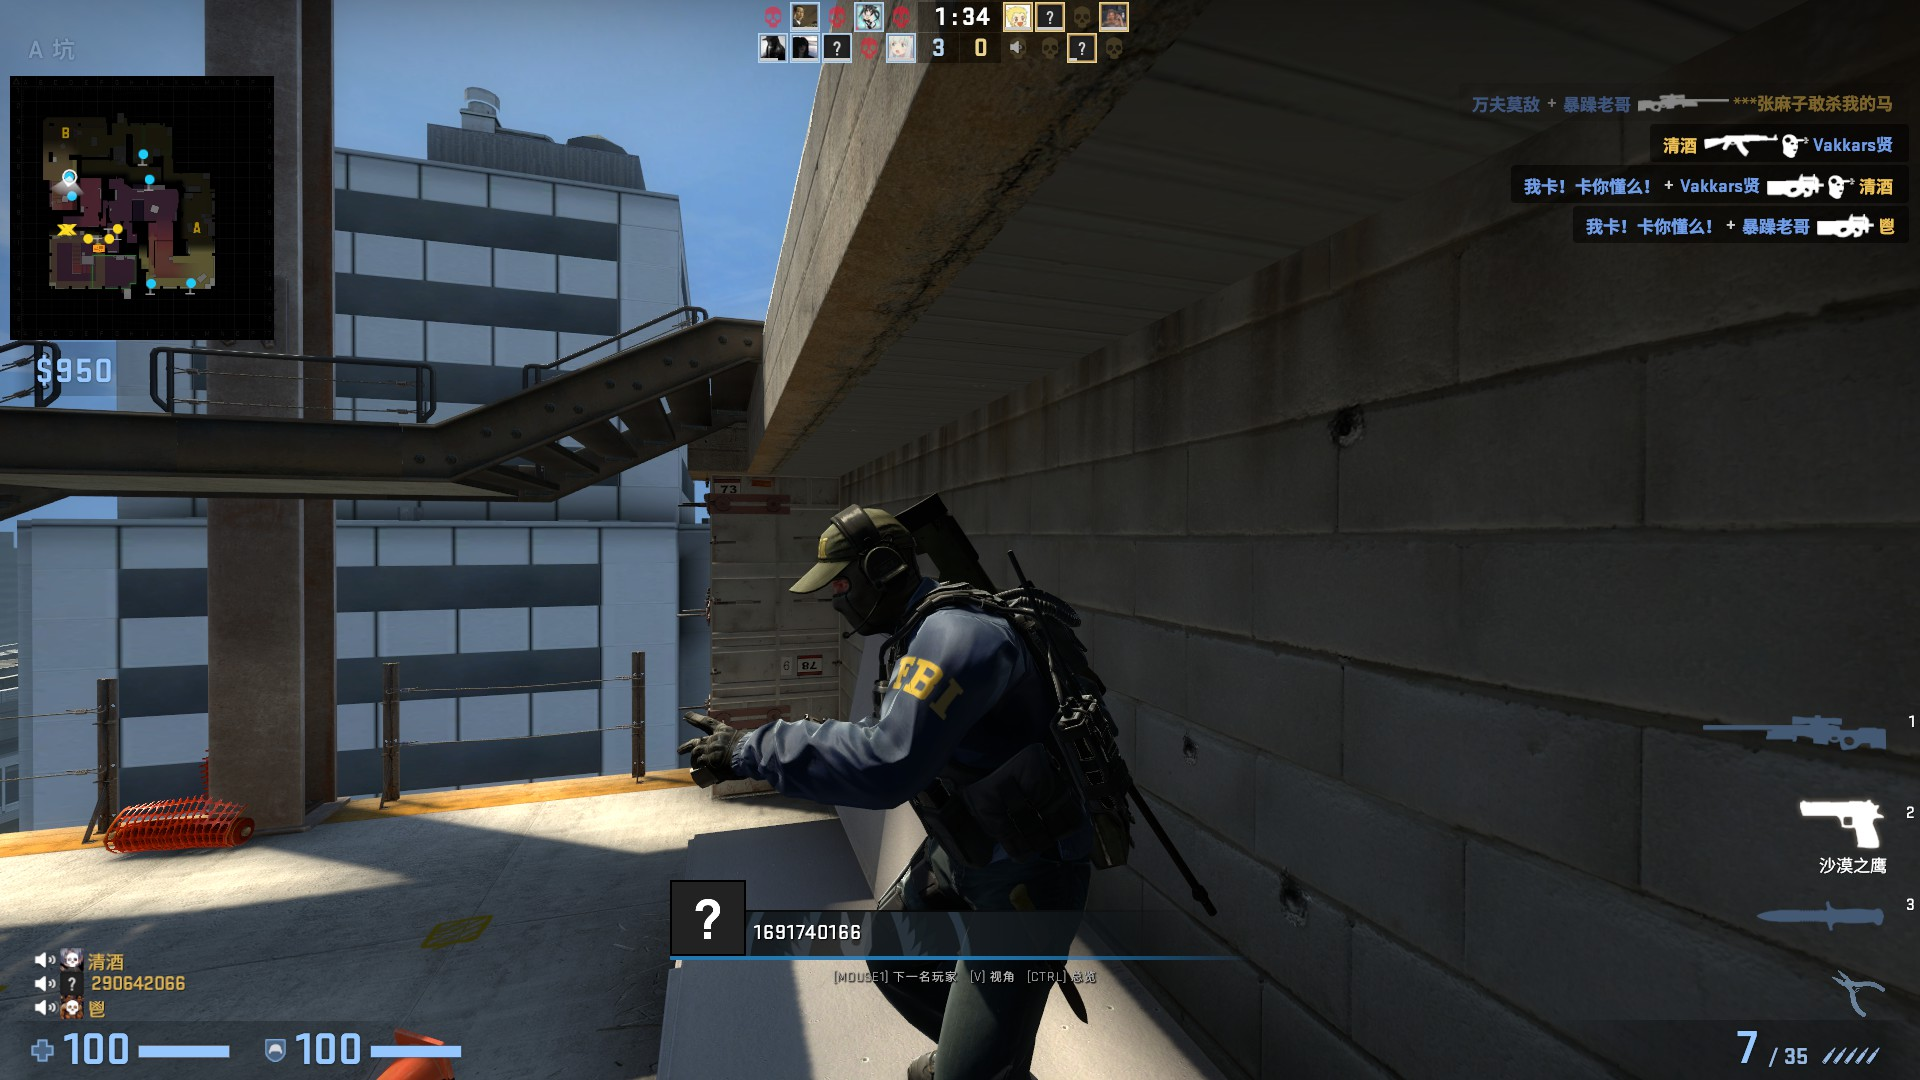head: (817, 500, 927, 630)
